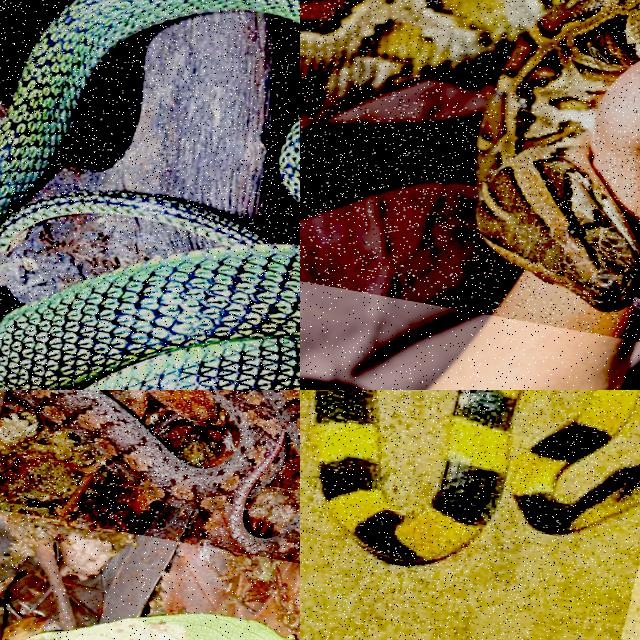Bungarus fasciatus: (313, 390, 522, 564)
Chrysopelea ornata: (0, 0, 299, 389)
Ovophis monticola: (26, 390, 299, 557)
Python bivittatus: (300, 0, 639, 310)
snake: (0, 0, 299, 389), (300, 0, 639, 310), (26, 390, 299, 557), (313, 390, 522, 564)
